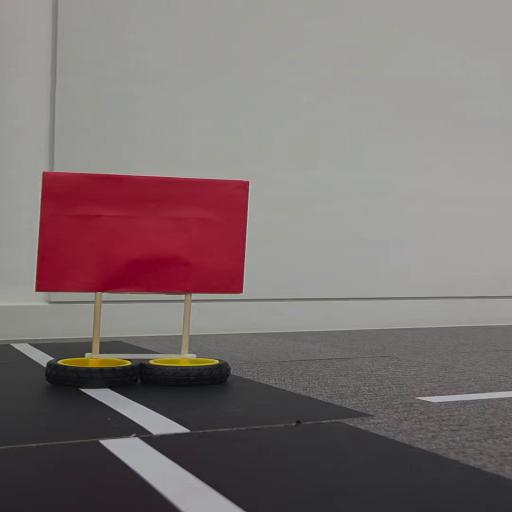Sign_A: (28, 166, 255, 386)
